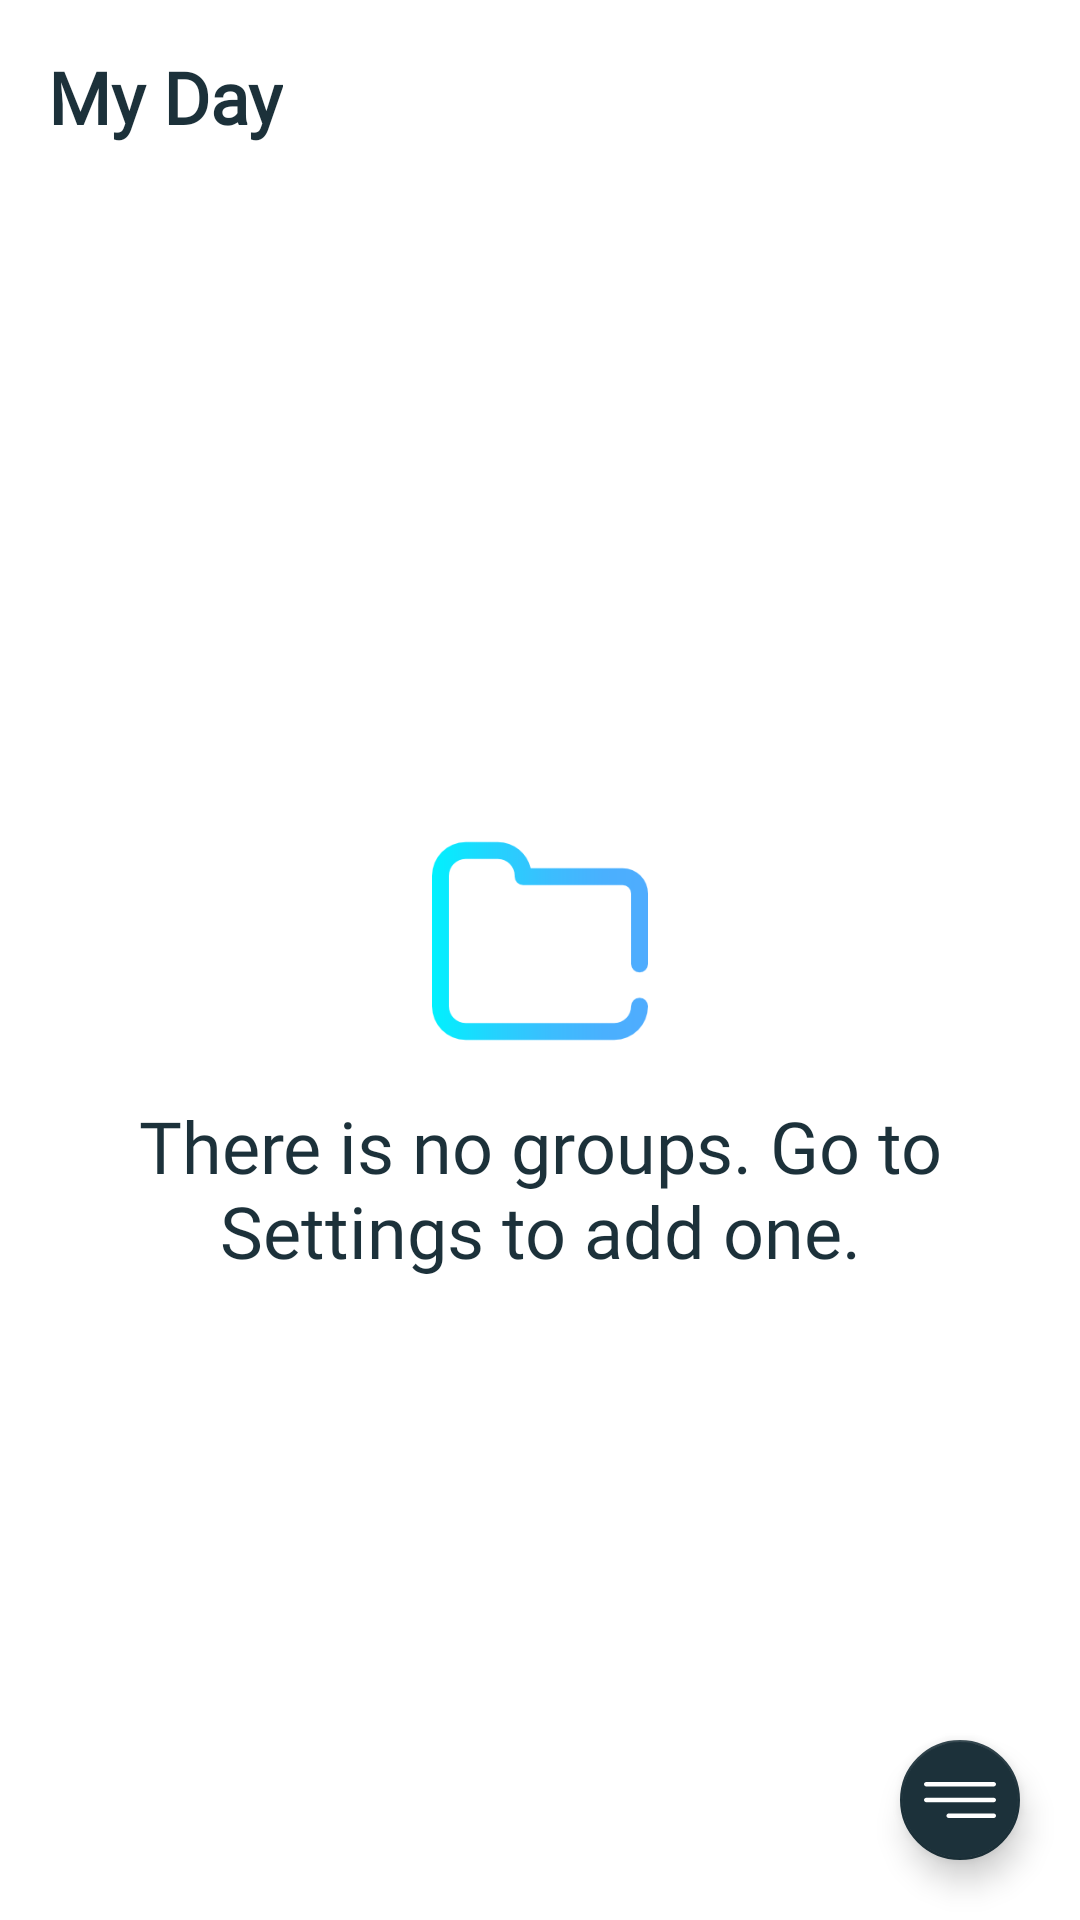

Locate icon controls on the screen. Image size 1080px x 1920px, boxes as (x1, y1, x2, y2).
empty folder: (432, 841, 648, 1041)
menu: (900, 1740, 1022, 1872)
